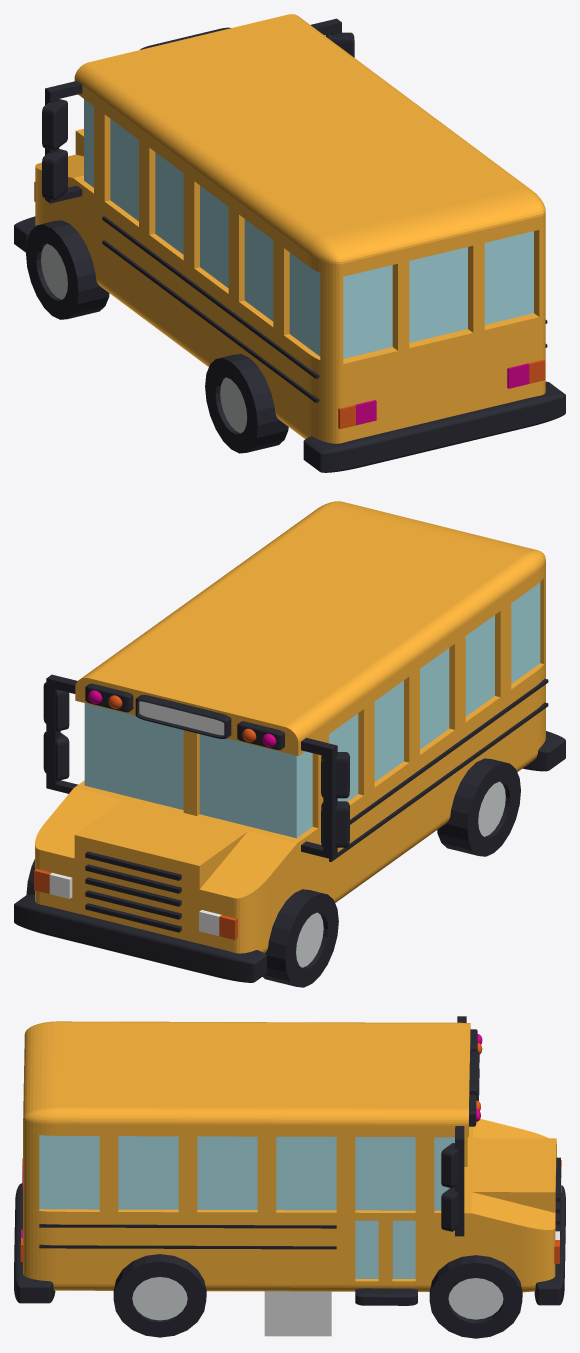
File: skolBuss.glb
3 views of the same model, one above another, from view 1: azimuth 30°, elevation 25°; view 2: azimuth 150°, elevation 25°; view 3: azimuth 270°, elevation 25° (orthographic). The views are drawn at different scales.
Parts seen in each view (by area): view 1: obj_0; view 2: obj_0; view 3: obj_0, Cube.
Part boxes in pixels (x1,y1,x2,y2): obj_0: (14,14,565,472); obj_0: (14,501,565,987); obj_0: (14,1016,565,1338); Cube: (264,1291,331,1336).
Size of the model in its own units: 9.29 by 8.32 by 16.45.
